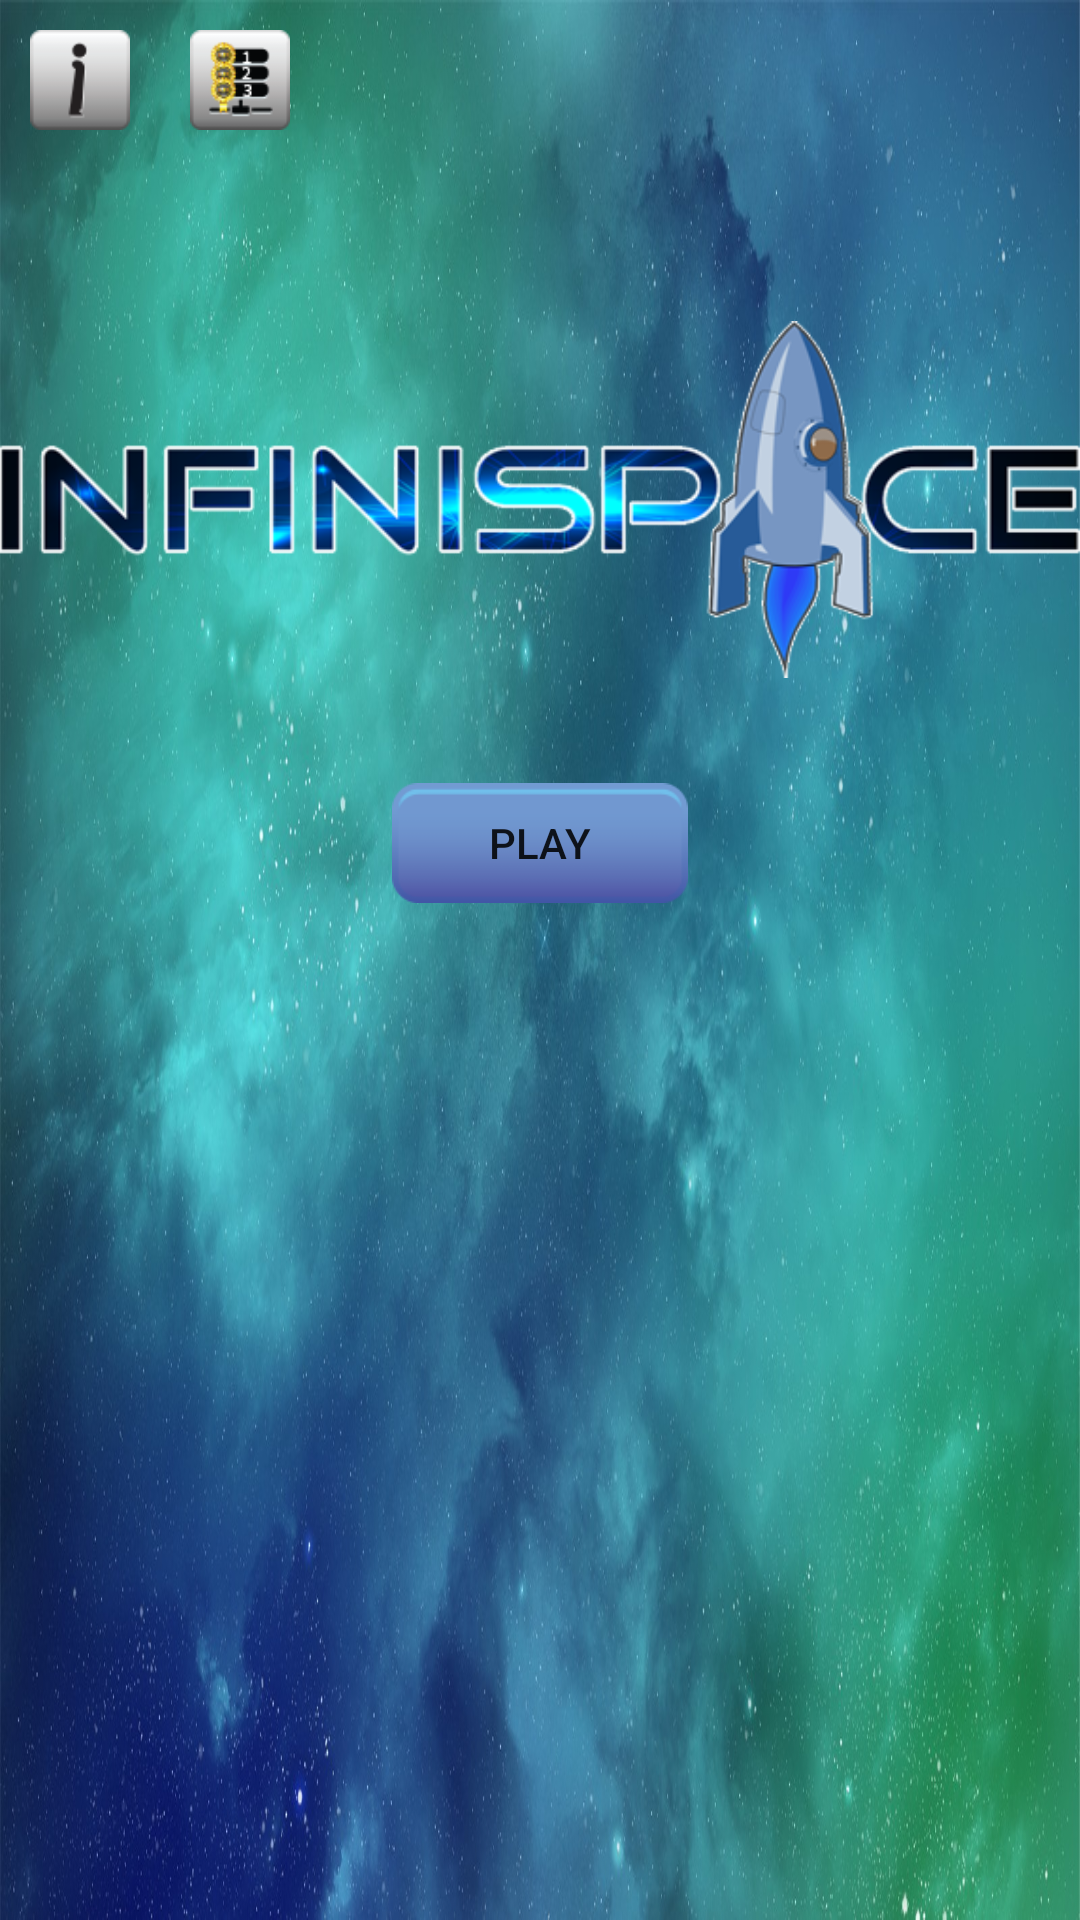

Icons on this 1080 × 1920 Android screen, each with the point to tap as [x,y]:
infobtn: [80,80]
scorebtn: [240,80]
